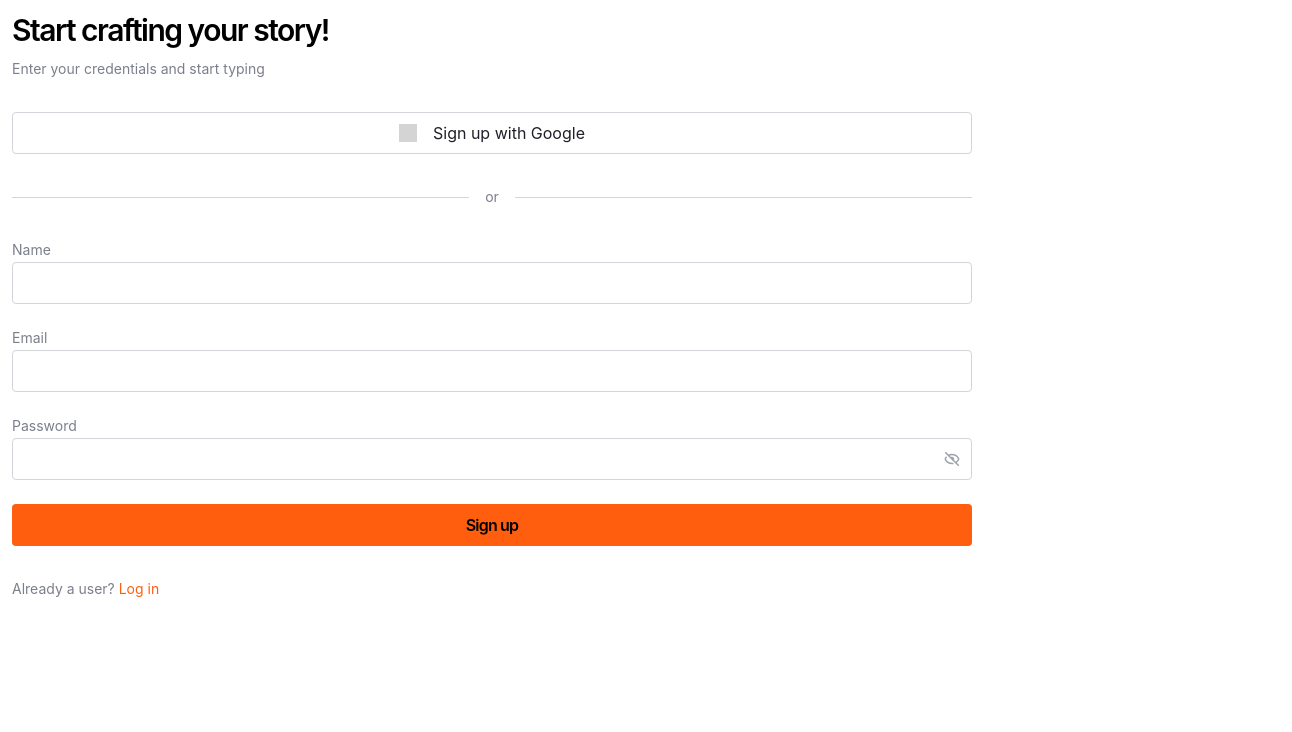
it: <Signup /> › Form validation › should show an error when the email is invalid
Type "test" into the field labelled "Email" at (492, 371), box [13,359,971,383]
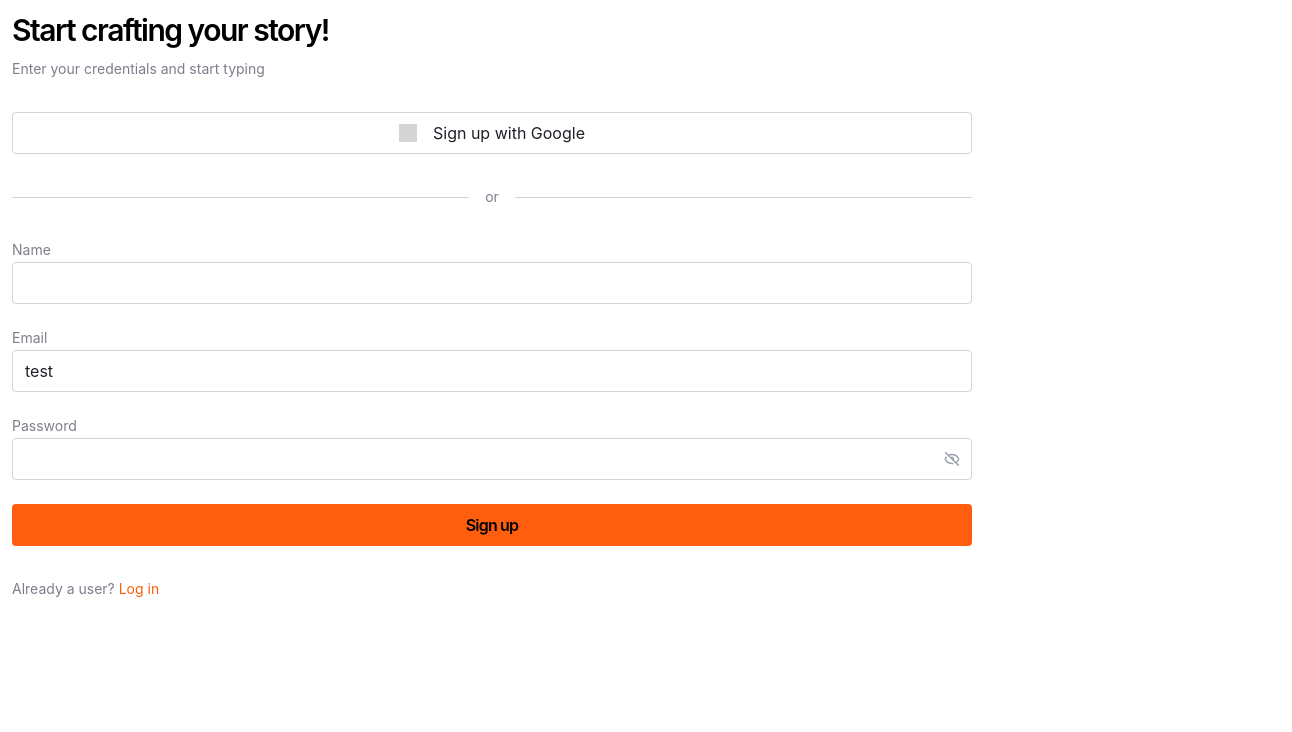
Click the button "Sign up" at (492, 525), box [12,504,972,546]
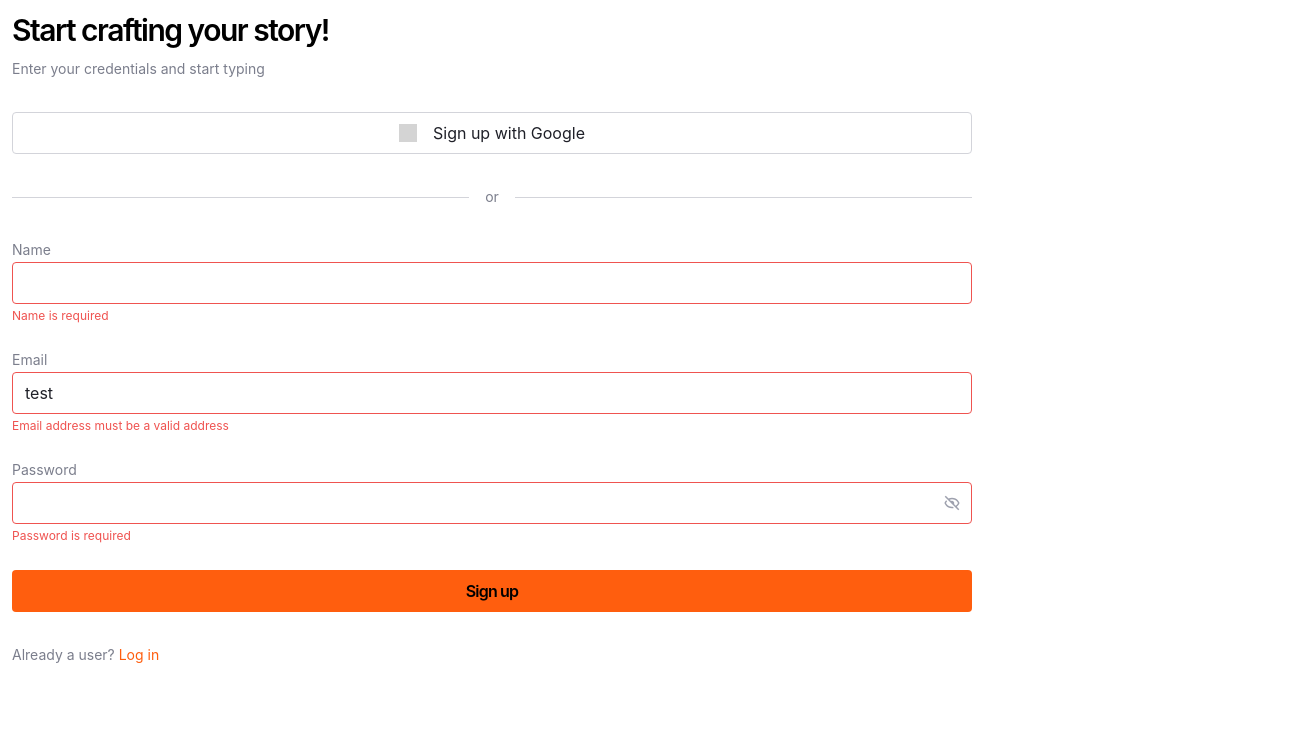
expect the text "Email address must be a valid address" is shown: met, box [12,418,229,433]
